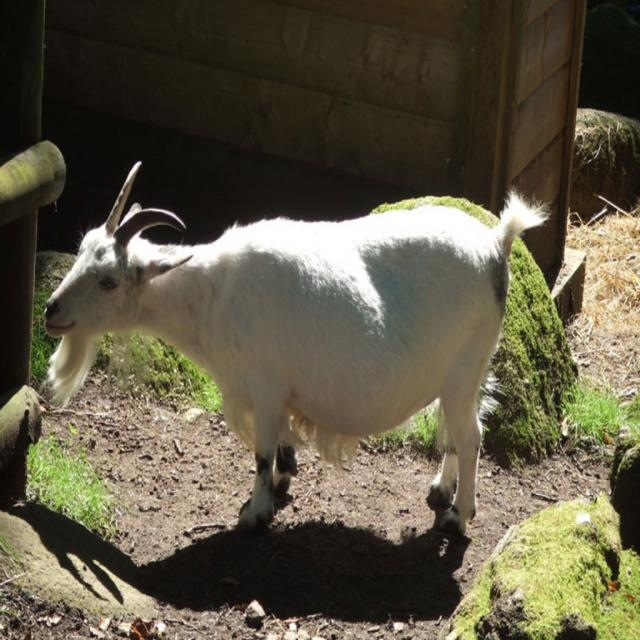Goat: (43, 160, 548, 538)
